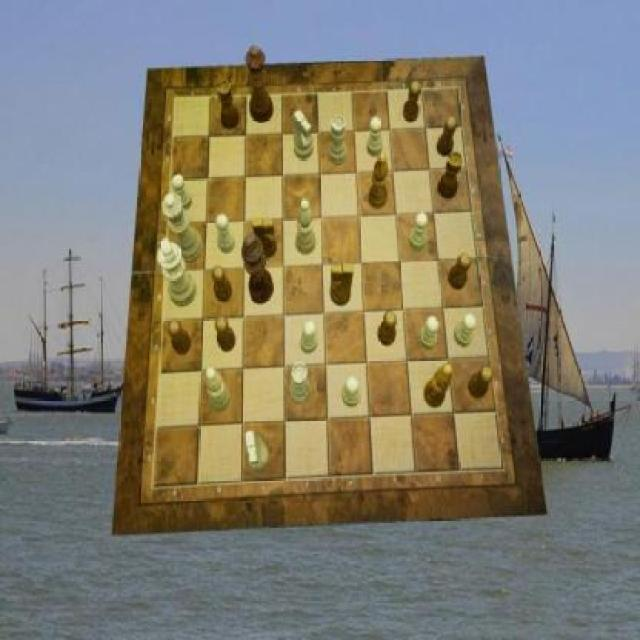bishop: (425, 363, 452, 409), (369, 152, 389, 210)
black-bishop: (242, 230, 274, 304)
black-king: (252, 217, 277, 258), (331, 263, 354, 307)
black-knight: (168, 320, 192, 356), (469, 364, 494, 398), (448, 252, 470, 290), (436, 117, 456, 157), (217, 315, 237, 353), (403, 82, 421, 123), (378, 310, 398, 346), (212, 266, 232, 302)
black-pawn: (244, 45, 274, 122)
black-queen: (437, 152, 463, 200), (217, 80, 240, 129)
black-rook: (206, 368, 231, 413), (296, 198, 316, 254)
white-bishop: (157, 237, 197, 306)
white-king: (294, 111, 314, 160), (244, 431, 268, 471)
white-knight: (454, 312, 477, 347), (217, 214, 237, 252), (418, 315, 439, 350), (409, 214, 428, 252), (172, 176, 192, 212), (298, 320, 318, 354), (368, 117, 383, 157), (342, 377, 359, 409)
white-pawn: (162, 192, 202, 263)
white-queen: (328, 116, 348, 164), (290, 361, 312, 404)
